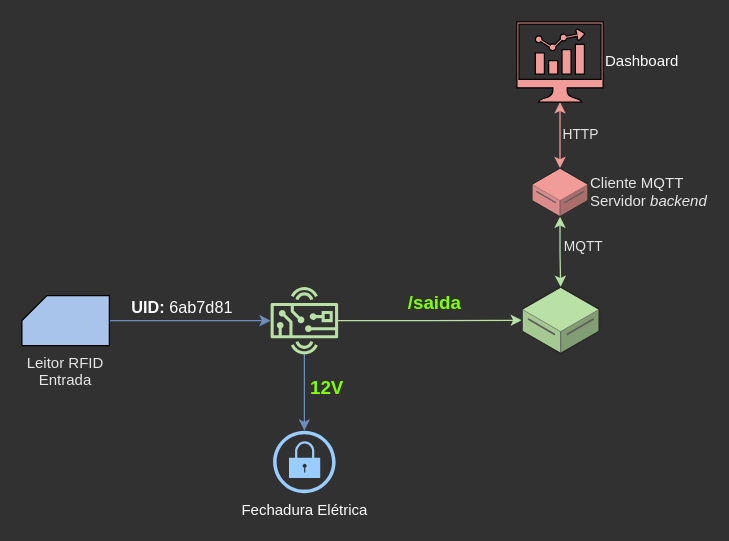
Some shapes in this 729 by 541 pixel diagram are drawn without their labels. Here are the shapes that lost their labels. From the top down, the centre of each, then its label:
the point at 303,320: ESP8266
the point at 560,320: Servidor MQTT
